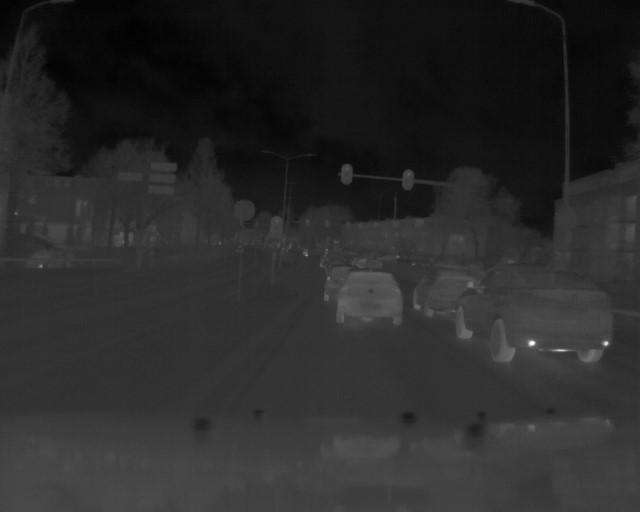car: (454, 257, 616, 373), (336, 266, 406, 327), (411, 261, 473, 318)
